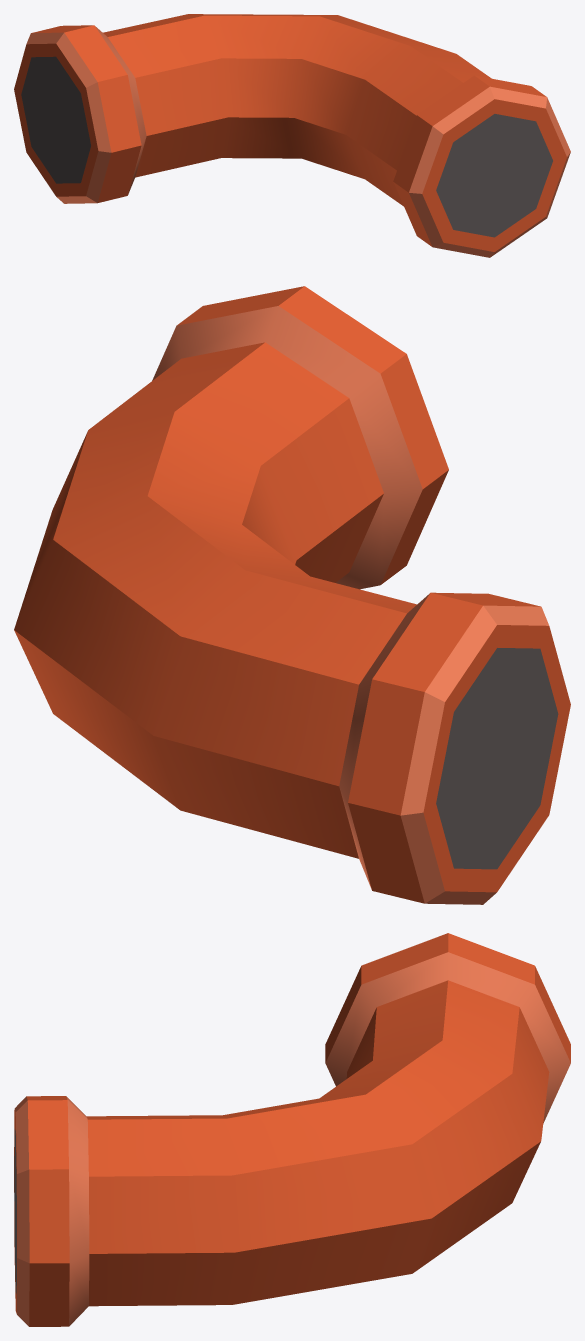
The model's file is SR_Pipe_Curve_01.fbx.
The picture shows the model from 3 angles, top to bottom: view 1: azimuth 30°, elevation 25°; view 2: azimuth 150°, elevation 25°; view 3: azimuth 270°, elevation 25°; orthographic projection. The views are drawn at different scales.
Parts seen in each view (by area): view 1: SR_Pipe_Curve_01; view 2: SR_Pipe_Curve_01; view 3: SR_Pipe_Curve_01.
Boxes of the visible parts, x1=… form: SR_Pipe_Curve_01: x1=14, y1=14, x2=570, y2=257; SR_Pipe_Curve_01: x1=14, y1=286, x2=570, y2=904; SR_Pipe_Curve_01: x1=14, y1=933, x2=570, y2=1326.
Size of the model in its own units: 261 by 121 by 274.
